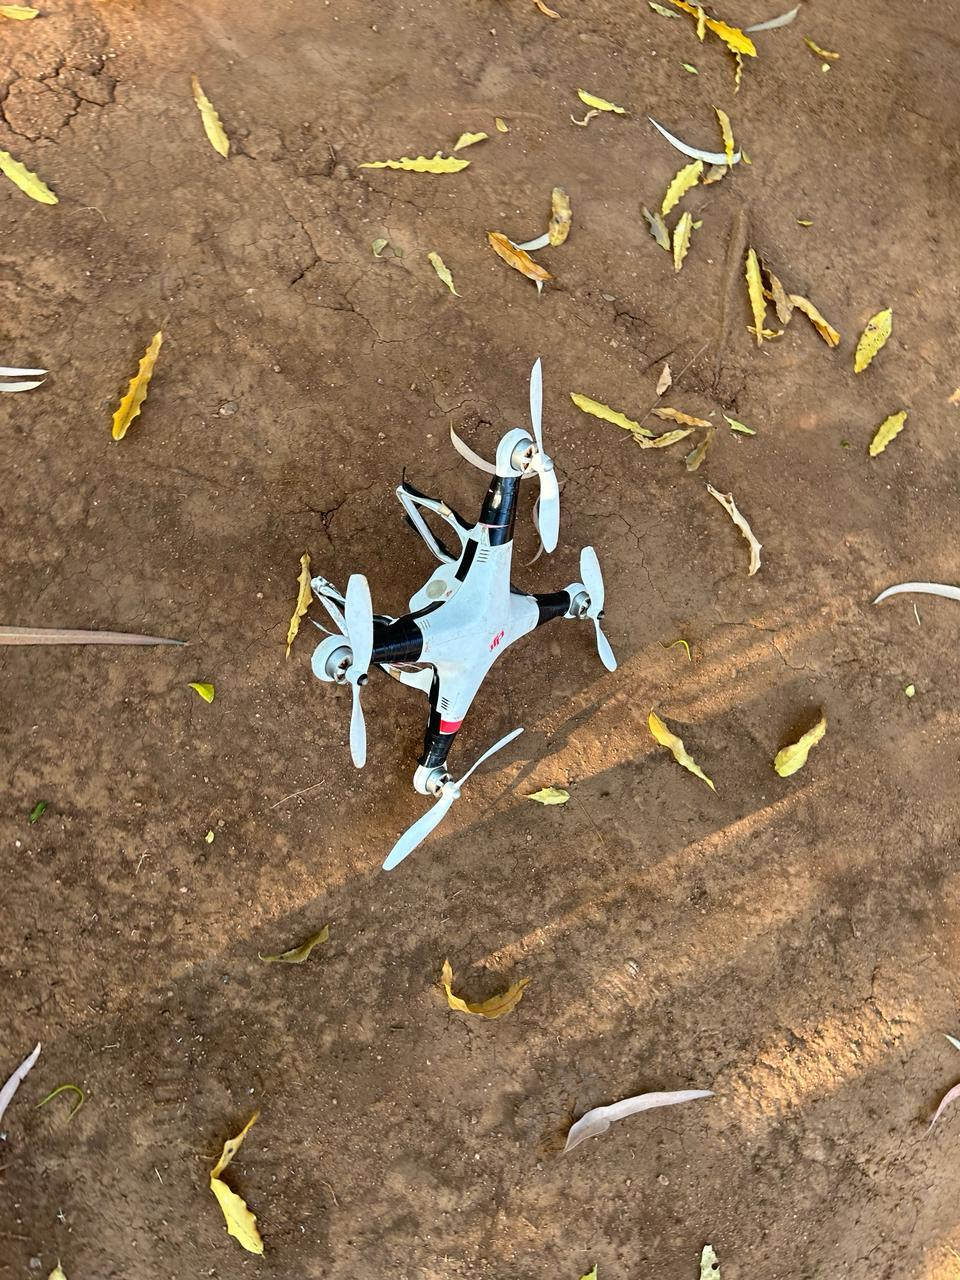drone: (191, 328, 735, 930)
